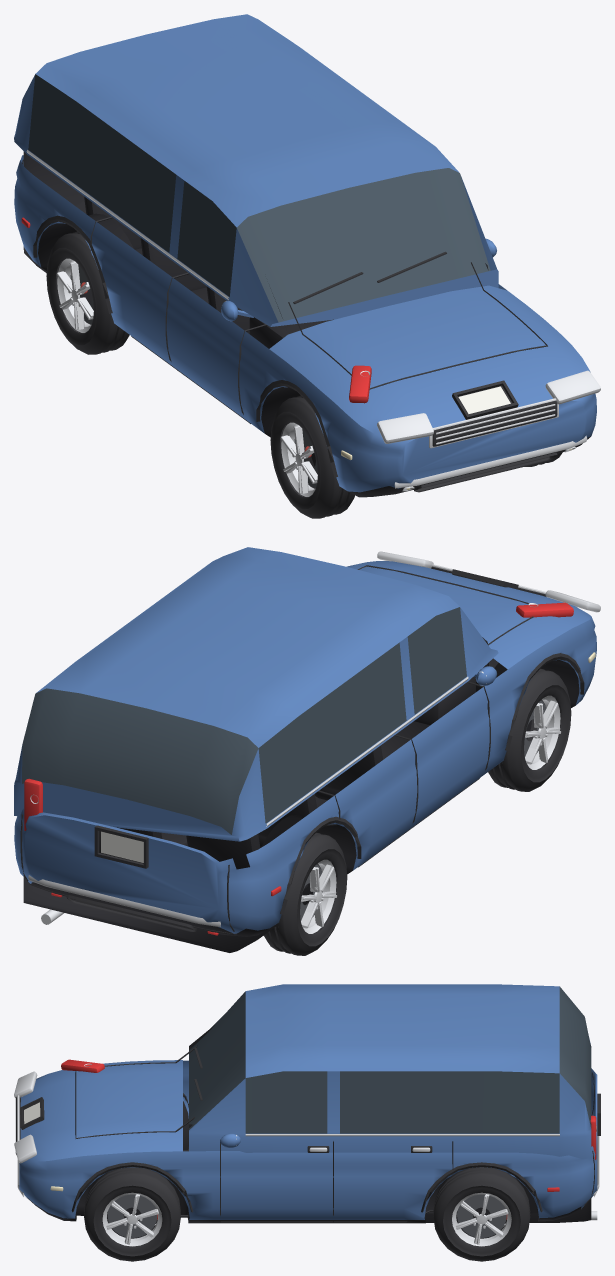
Rendered from CarV2_SUV.fbx.
3 views of the same model, one above another, from view 1: azimuth 30°, elevation 25°; view 2: azimuth 150°, elevation 25°; view 3: azimuth 270°, elevation 25° (orthographic). The views are drawn at different scales.
Visible parts, largest first — view 1: CarV2_SUV; view 2: CarV2_SUV; view 3: CarV2_SUV.
Part boxes in pixels (bbox=[...]): CarV2_SUV: bbox=[14, 14, 600, 518]; CarV2_SUV: bbox=[14, 547, 600, 955]; CarV2_SUV: bbox=[14, 984, 600, 1261].
Size of the model in its own units: 1.94 by 1.74 by 4.67.
